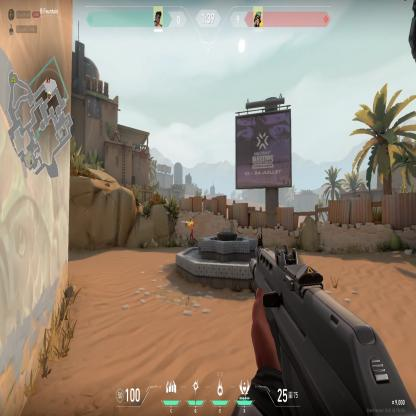enemy: (184, 215, 198, 245)
